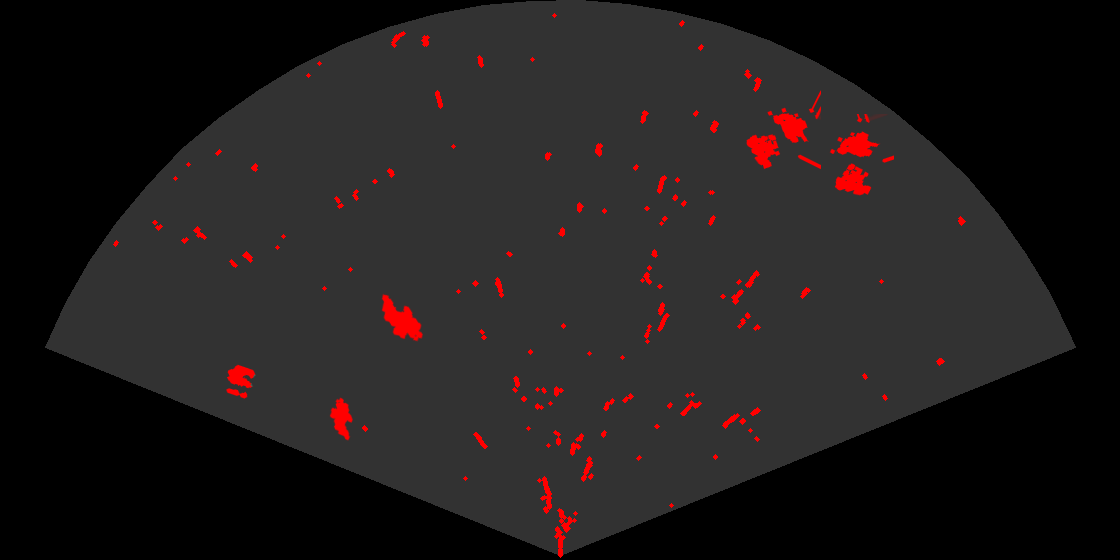AUV: (380, 292, 425, 343), (328, 396, 354, 442)
ball: (225, 363, 257, 400)
cage: (745, 89, 821, 171), (829, 114, 894, 197)
